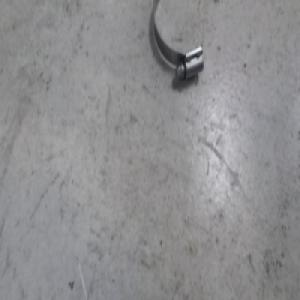AdjustableClamp: (154, 1, 207, 78)
